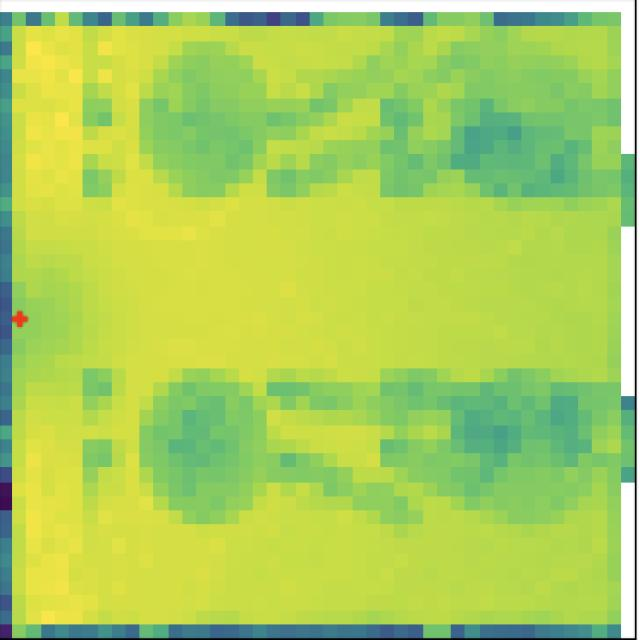Concrete: (130, 365, 267, 532)
Glass: (460, 376, 584, 528)
Metal: (133, 32, 268, 199)
Wood: (432, 45, 594, 206)
